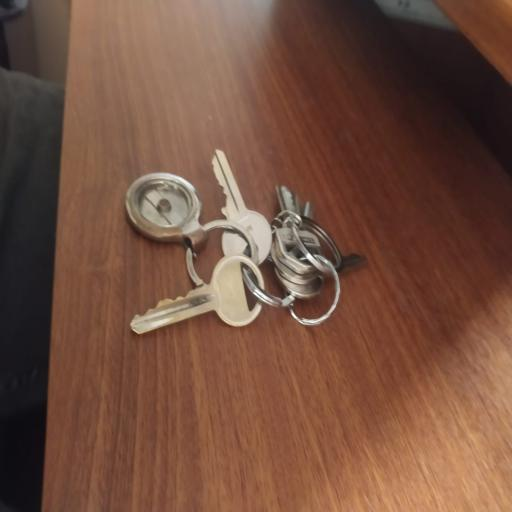Llaves: (118, 140, 372, 355)
